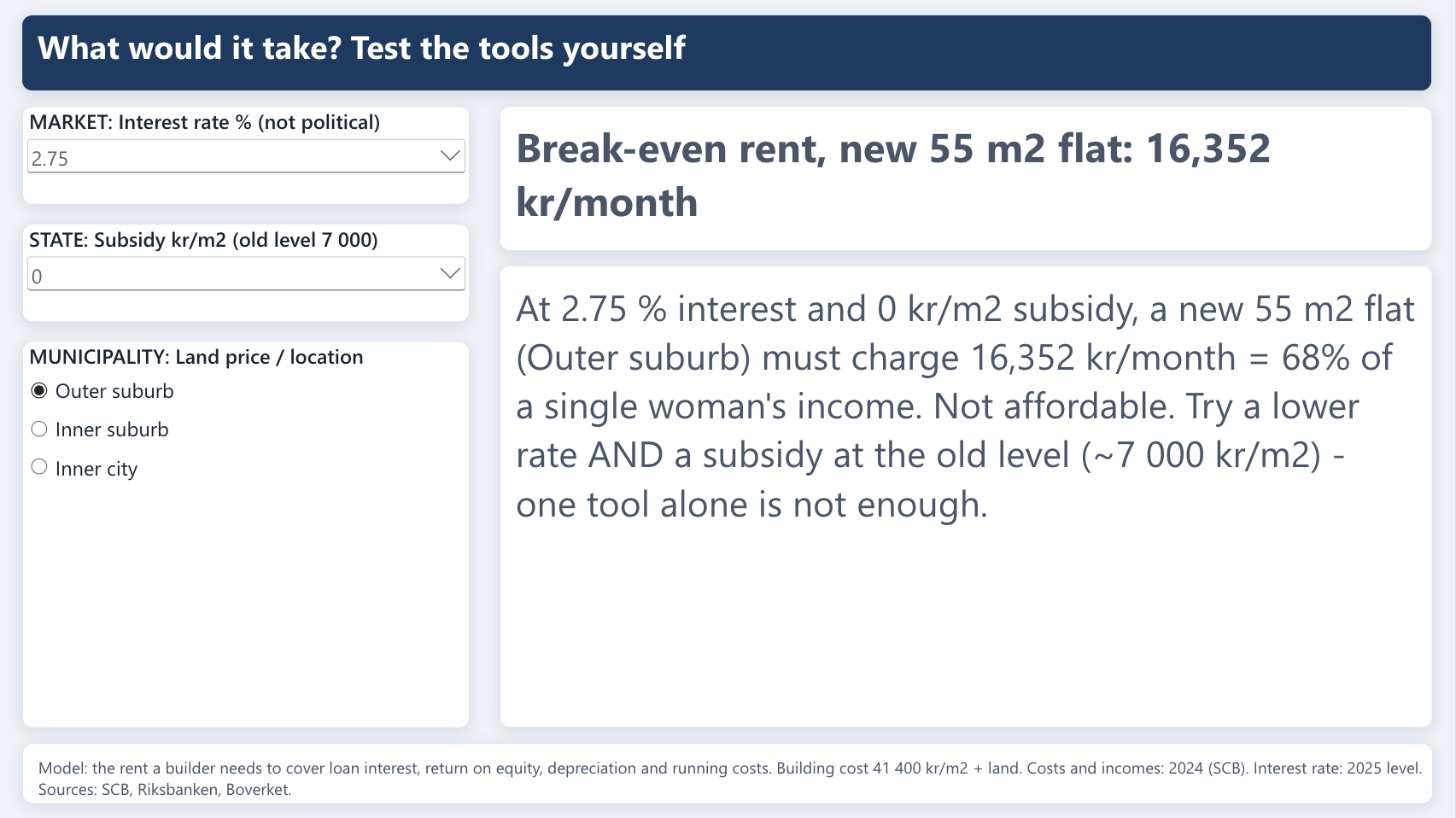

The page's visual inventory and layout, read from the dashboard file:
{"tool":"powerbi","page":{"name":"3. What would it take?","canvas":[1920,1080],"ordinal":3},"visuals":[{"type":"slicer","fields":{"Values":["scenarios.interest_rate"]},"box":[30,140,590,130],"z":0},{"type":"slicer","fields":{"Values":["scenarios.subsidy_per_m2"]},"box":[30,295,590,130],"z":1000},{"type":"slicer","fields":{"Values":["scenarios.Area"]},"box":[30,450,590,510],"z":2000},{"type":"textbox","box":[660,350,1230,610],"z":3000},{"type":"textbox","box":[29.5,19,1860.3,101.2],"z":4000},{"type":"textbox","box":[660,140,1230,191],"z":5000},{"type":"textbox","box":[30,980,1860,80],"z":6000}]}

Visuals, with their boxes in screenshot pixels (x1, y1, x2, y2), scaled from the page's 1920x1080 canvas onto the 1456x818 screenshot:
slicer - scenarios.interest_rate: [23, 106, 470, 204]
slicer - scenarios.subsidy_per_m2: [23, 223, 470, 322]
slicer - scenarios.Area: [23, 341, 470, 727]
textbox: [500, 265, 1433, 727]
textbox: [22, 14, 1433, 91]
textbox: [500, 106, 1433, 251]
textbox: [23, 742, 1433, 803]
